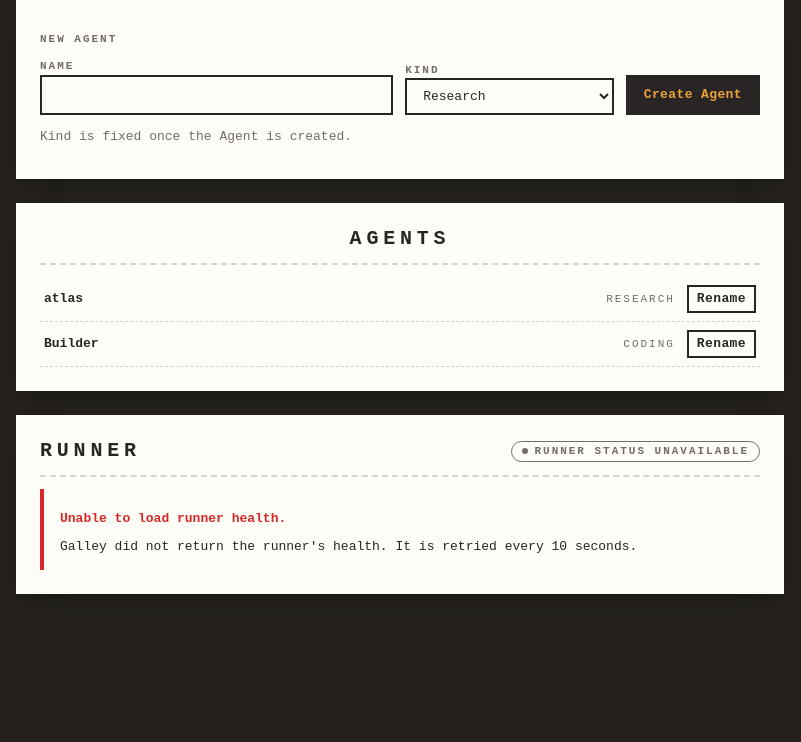
Test: AgentsPage › keeps the rename form open with Galley's rejection
The width and height of the screenshot is (801, 742).
Click the button with aria-label "Rename atlas".
click(721, 299)  # box [687,285,756,313]
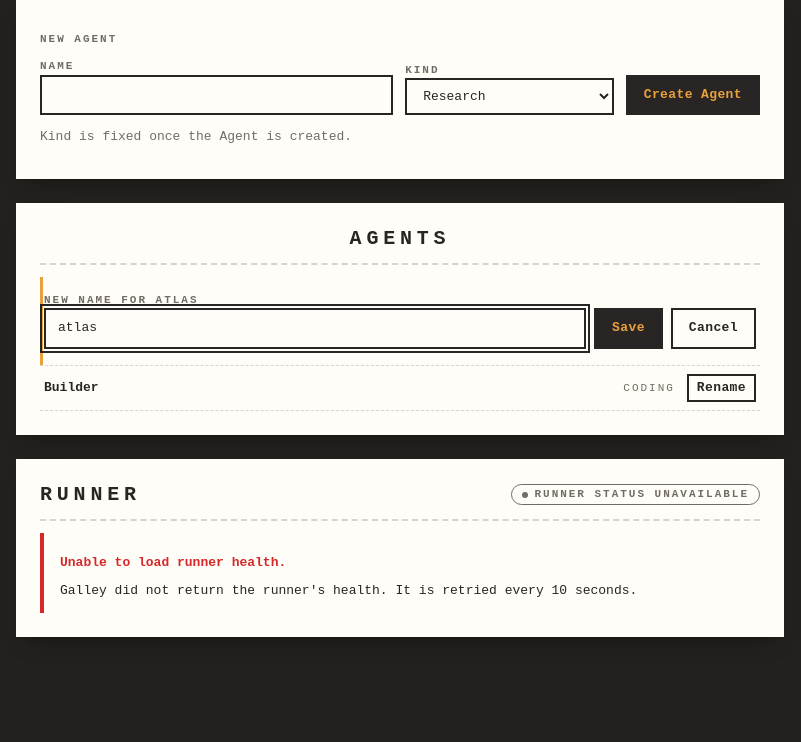
Replace the text in the field labelled "New name for atlas" with "builder" at (315,329), box [44,308,586,349]
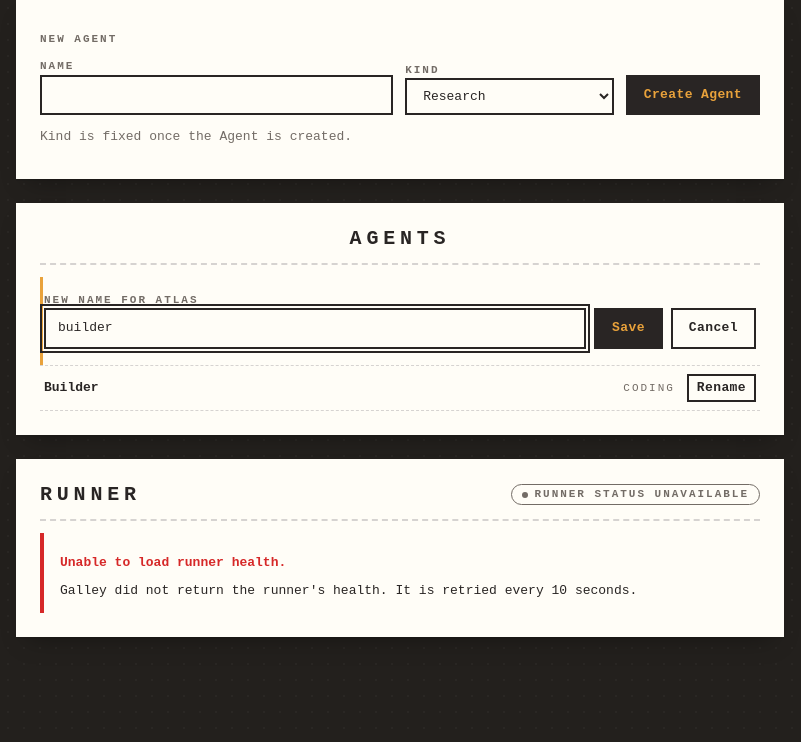
Click the button "Save".
click(628, 329)  # box [594,308,663,349]
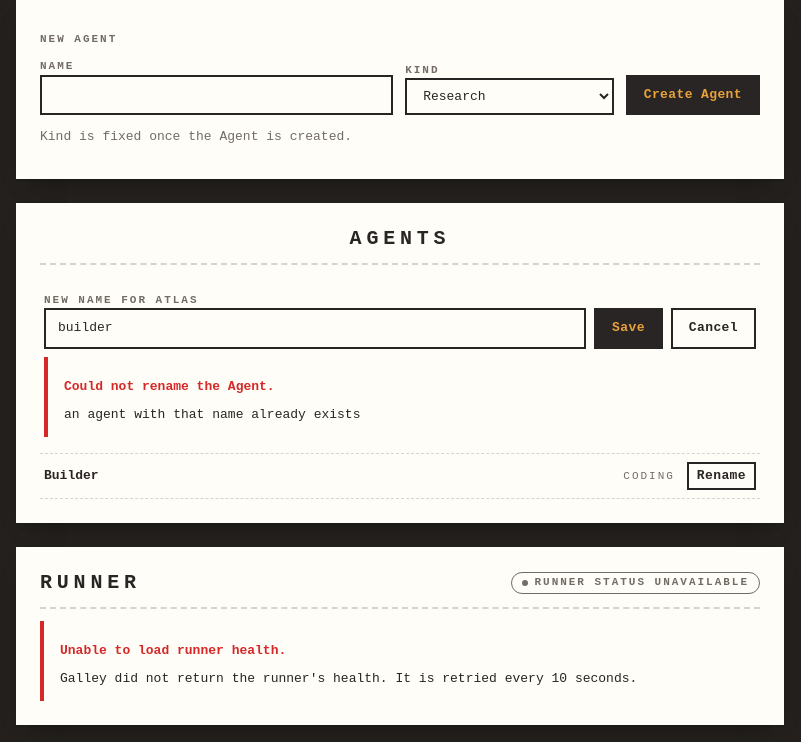
Result: the text with test id "agent-rename-error" reads "an agent with that name already exists" at [64,407,360,422]
